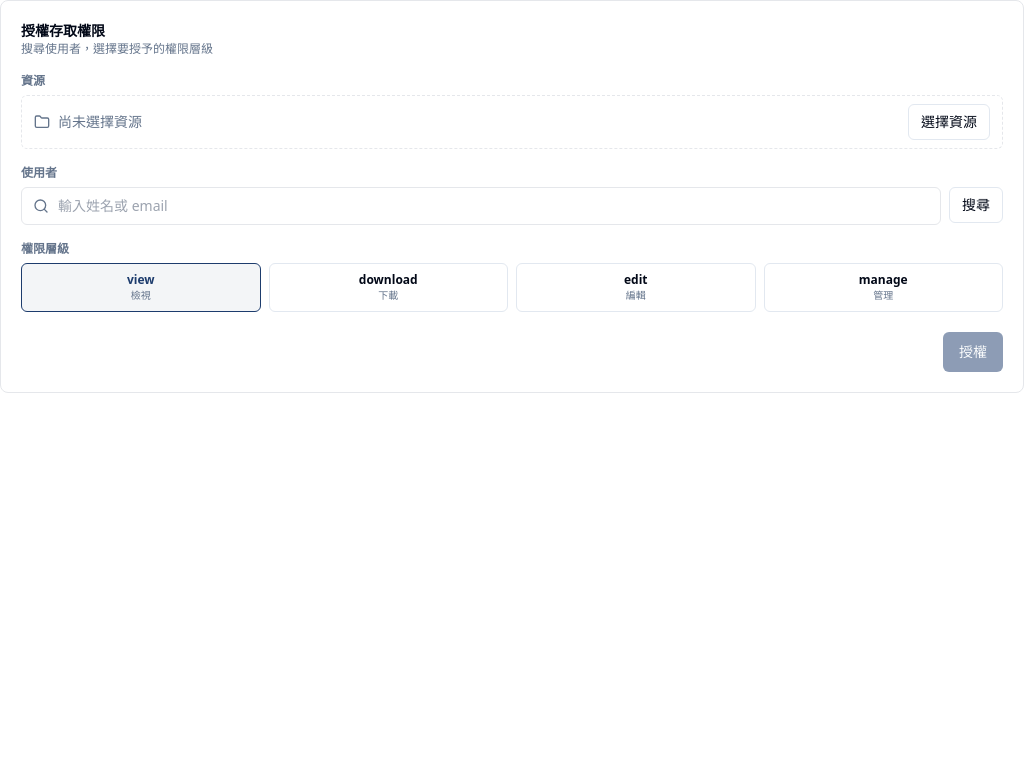
GrantPermissionForm › shows the full ancestor path (not just the leaf name) once a nested folder is picked
Click the button with test id "open-resource-picker": (949, 122) [908,104,990,140]
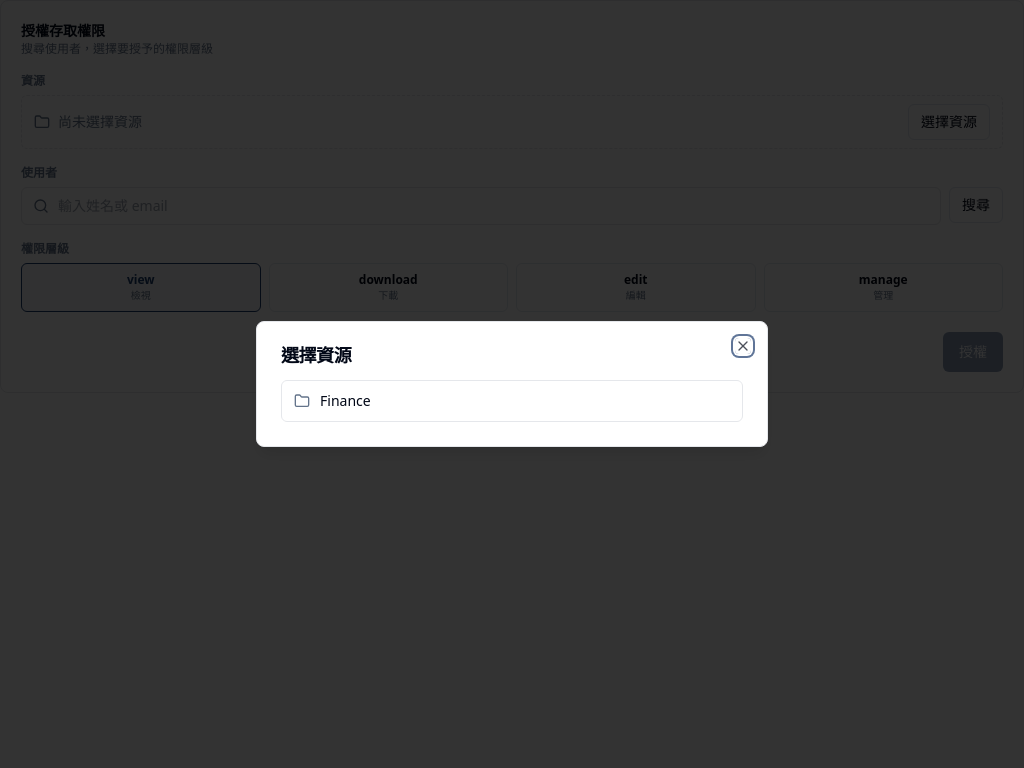
Now the button "Finance" is shown
Click the button "Finance": (345, 400) [282,381,742,421]
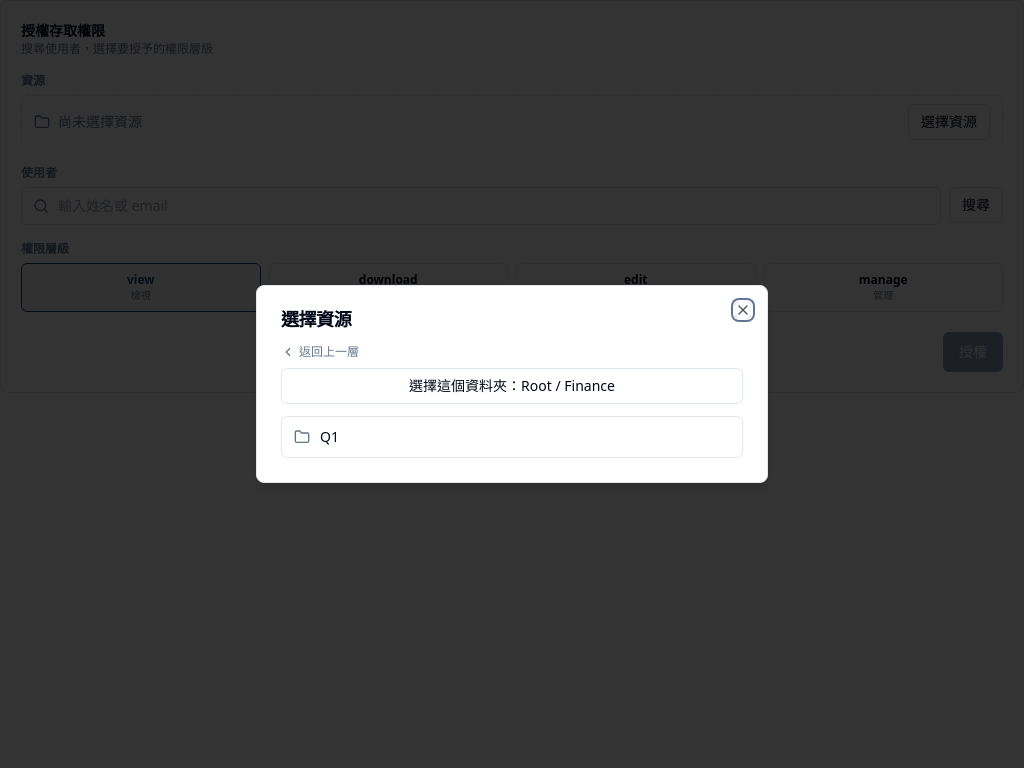
Now the button "Q1" is shown
Click the button "Q1": (302, 437) [282,417,742,457]
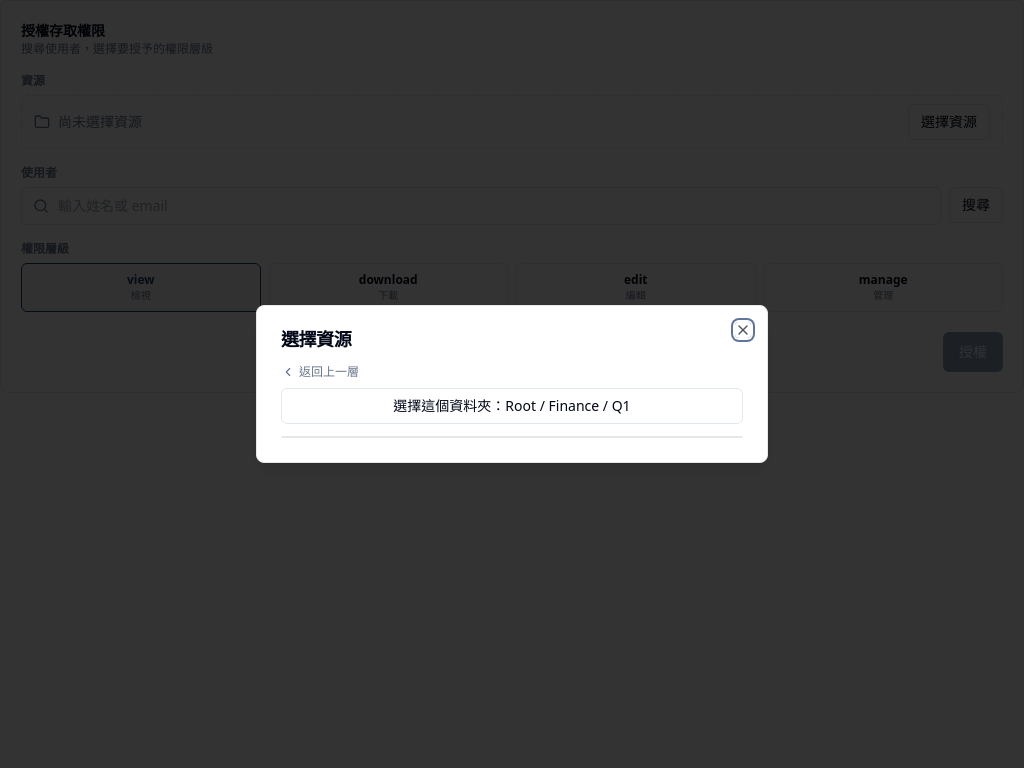
Now the button with test id "pick-current-folder" is shown
Click the button with test id "pick-current-folder": (512, 406) [281,388,743,424]
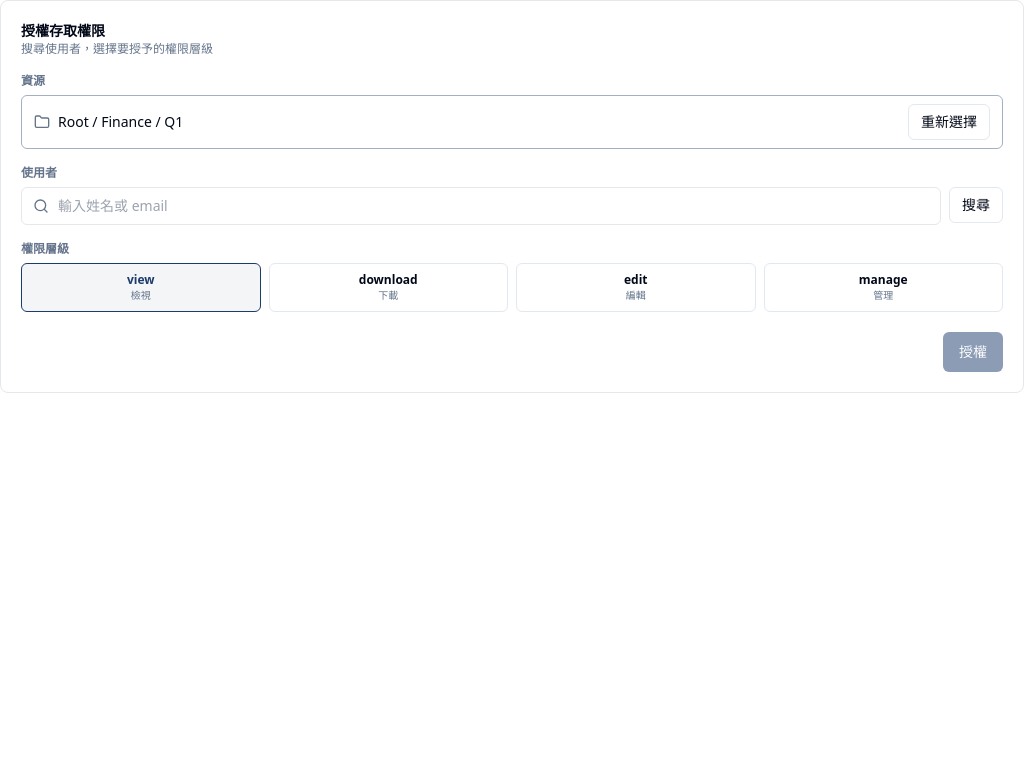
Now the text "Root / Finance / Q1" is shown, box [58,112,183,132]
